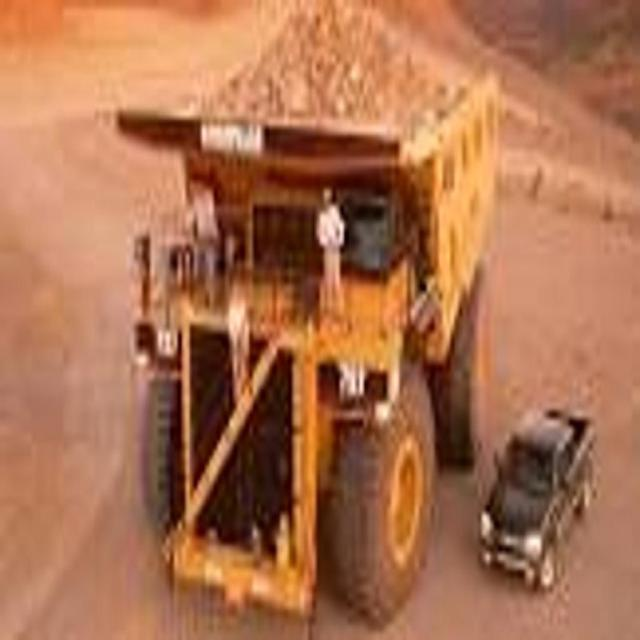dump_truck: (114, 15, 503, 628)
